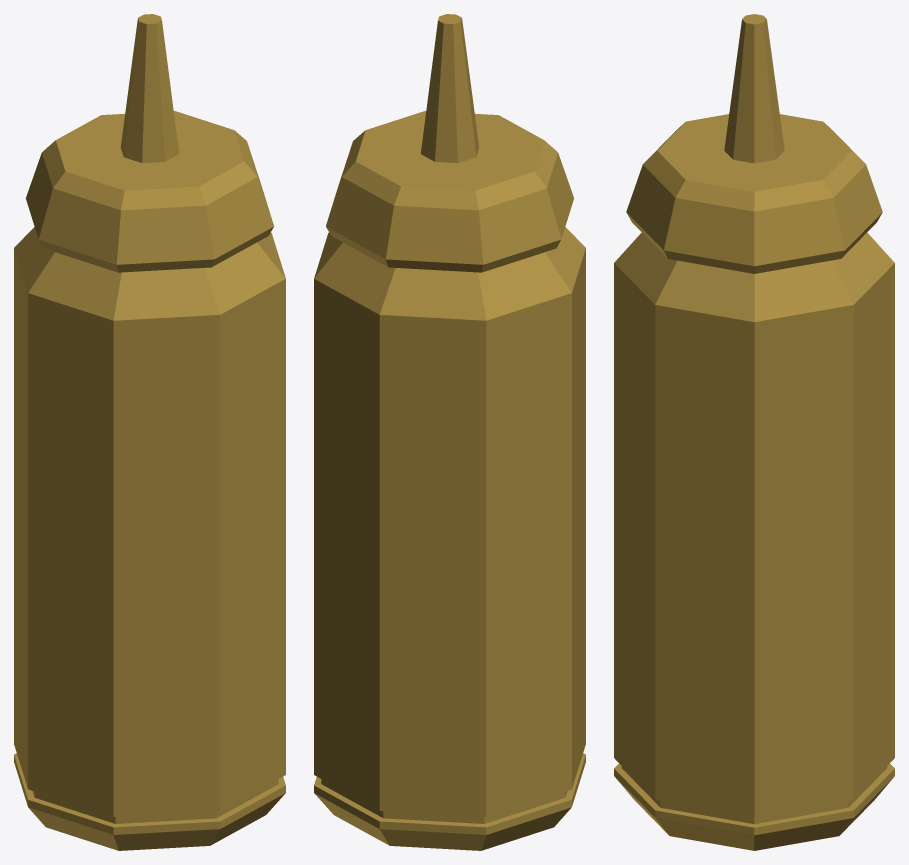
File: MustardBottle.glb
The picture shows the model from 3 angles, left to right: view 1: azimuth 30°, elevation 25°; view 2: azimuth 150°, elevation 25°; view 3: azimuth 270°, elevation 25°; orthographic projection.
Parts seen in each view (by area): view 1: MustardBottle; view 2: MustardBottle; view 3: MustardBottle.
Boxes of the visible parts, x1=… form: MustardBottle: x1=14, y1=14, x2=285, y2=850; MustardBottle: x1=314, y1=14, x2=585, y2=850; MustardBottle: x1=614, y1=14, x2=894, y2=850.
Size of the model in its own units: 0.0749 by 0.2299 by 0.0749.
